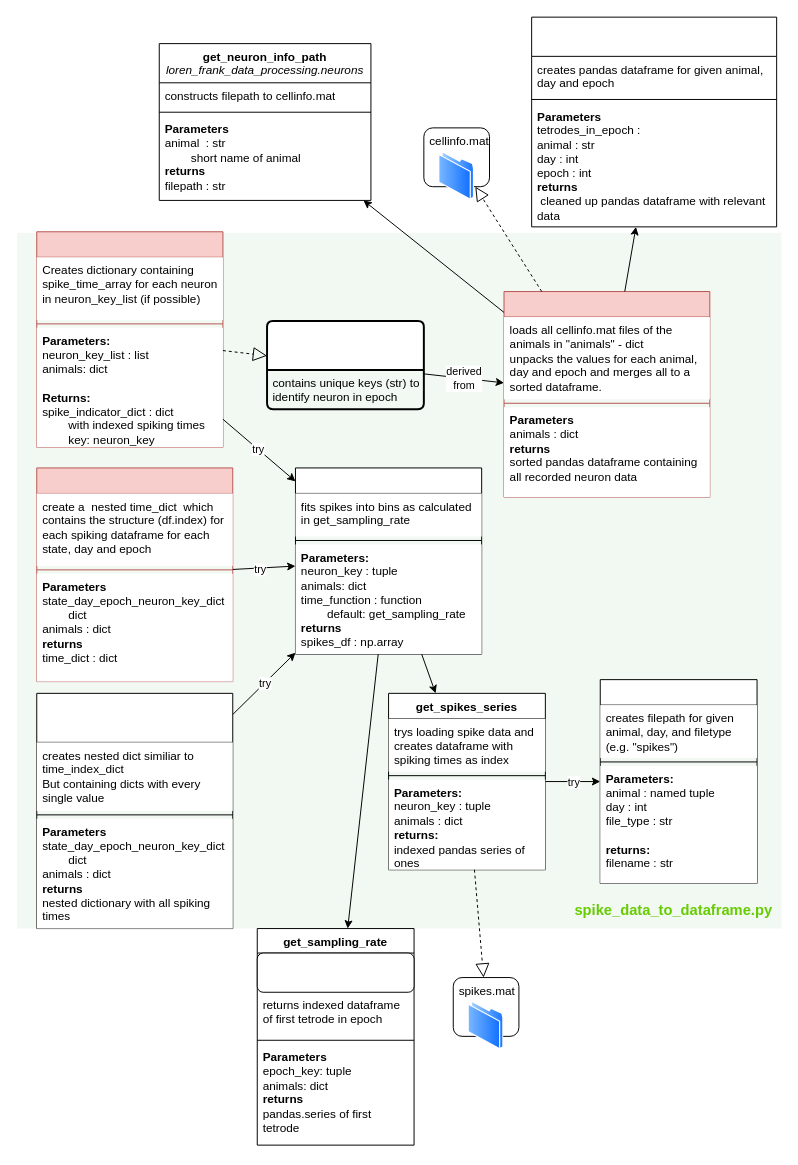
Some shapes in this 798 by 1165 pixel diagram are drawn without their labels. The shapes that lost their labels are listed below. From the top down, each one's box as (x1, y1, x2, y2) in pixels, then its label:
(531, 16, 777, 227): convert_neuron_epoch_to_dataframe loren_frank_data_processing.neurons
(36, 231, 223, 447): generate_spike_indicator_dict
(266, 319, 424, 410): neuron_key_list : list
(503, 291, 710, 497): make_neuron_dataframe_modified
(36, 467, 233, 682): time_index_dict
(294, 467, 482, 654): spike_time_index_association
(599, 679, 757, 883): get_data_filename
(36, 692, 233, 929): time_index_and_coarse_grained _spike_generator_dict
(256, 952, 414, 992): lfp_data_to_dataframe
